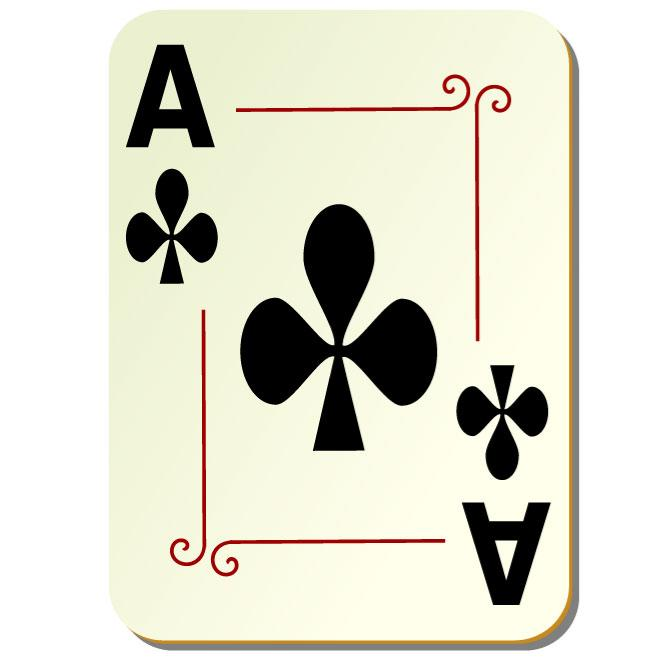ace of clubs: (111, 6, 578, 646)
